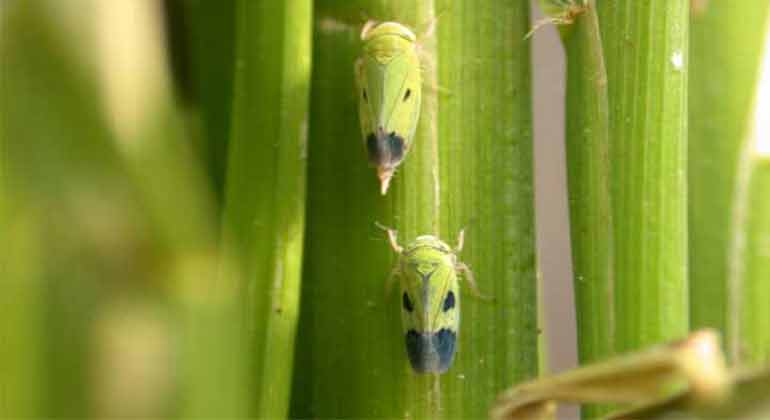Brown_plant_leafhopper: (350, 18, 429, 195), (392, 232, 471, 377)
